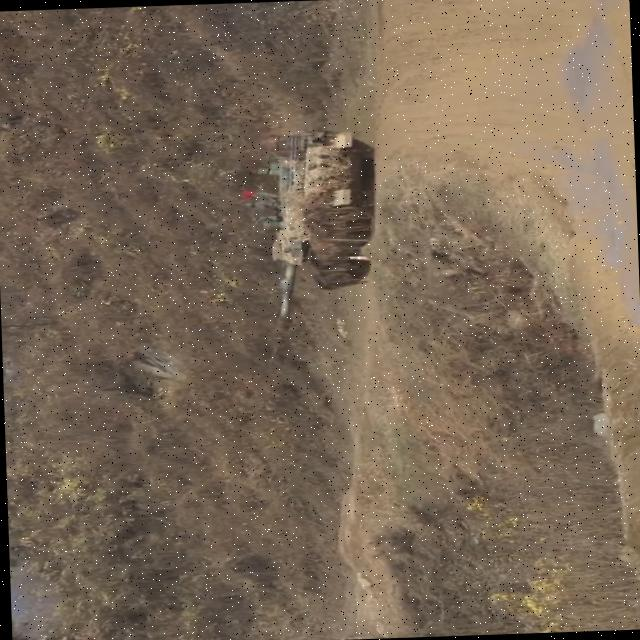korea tank: (234, 124, 384, 366)
